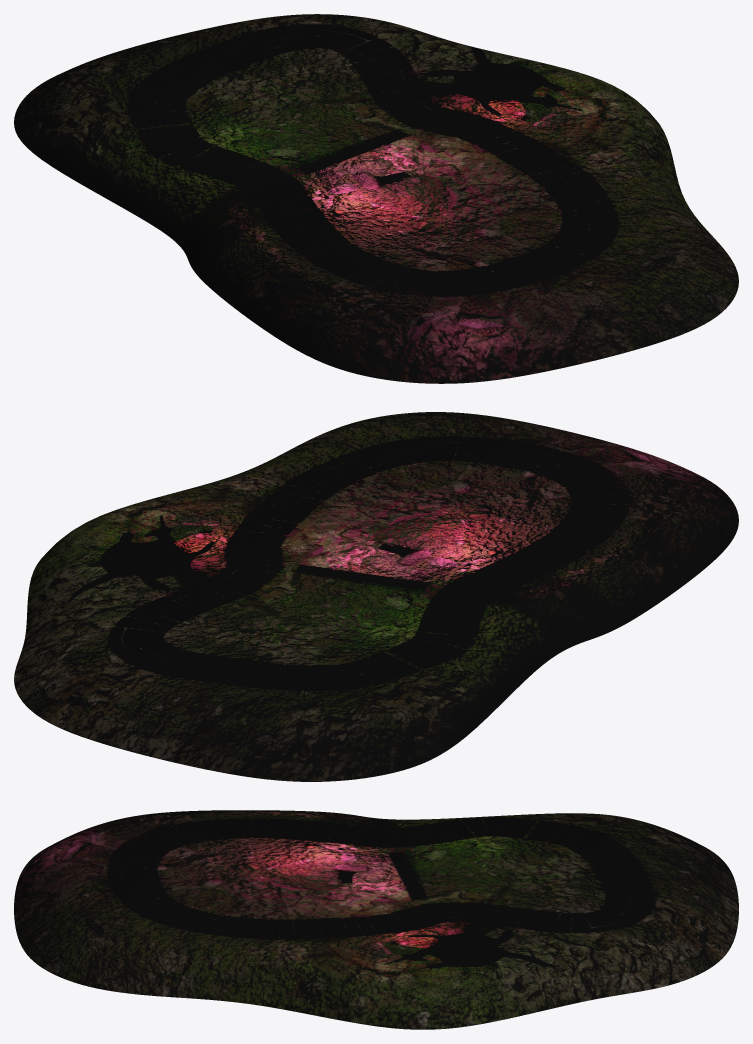
File: AR_Zombie_GRound_2.glb
3 views of the same model, one above another, from view 1: azimuth 30°, elevation 25°; view 2: azimuth 150°, elevation 25°; view 3: azimuth 270°, elevation 25° (orthographic). The views are drawn at different scales.
Parts seen in each view (by area): view 1: Plane; view 2: Plane; view 3: Plane.
Part boxes in pixels (box(x1,y1,x2,y2)): Plane: box(14, 14, 738, 383); Plane: box(14, 412, 738, 781); Plane: box(14, 810, 738, 1029).
Size of the model in its own units: 4.49 by 0.3152 by 6.6.
Materials: 1 (1 with a texture image).
